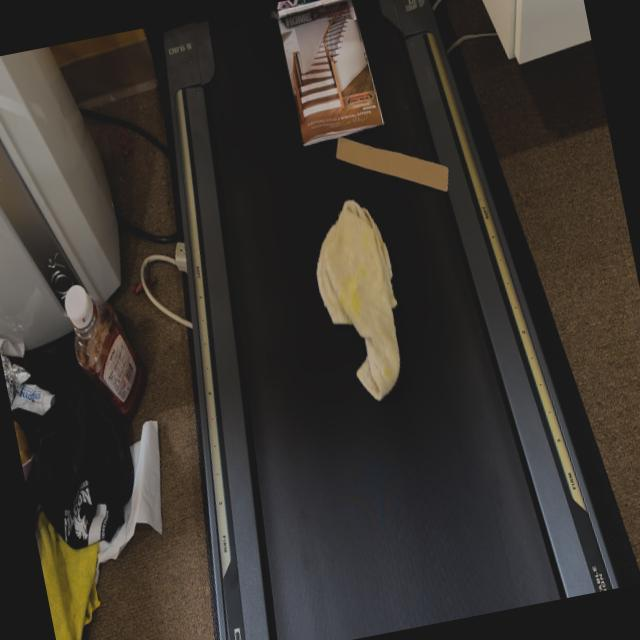Recycle: (328, 120, 465, 228)
Trash: (300, 182, 442, 468), (272, 0, 397, 148)
